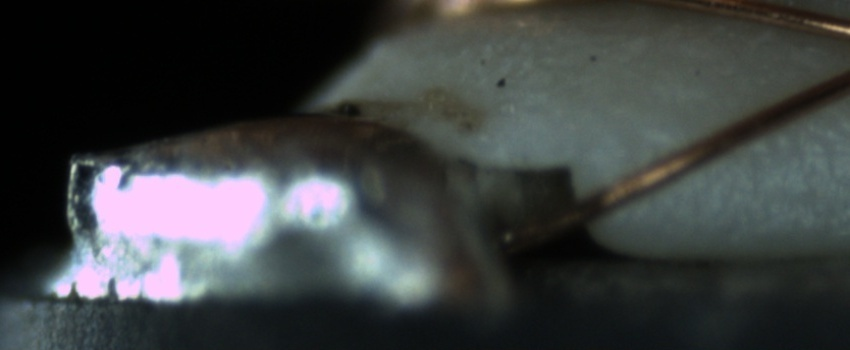DL: (718, 126, 849, 173)
